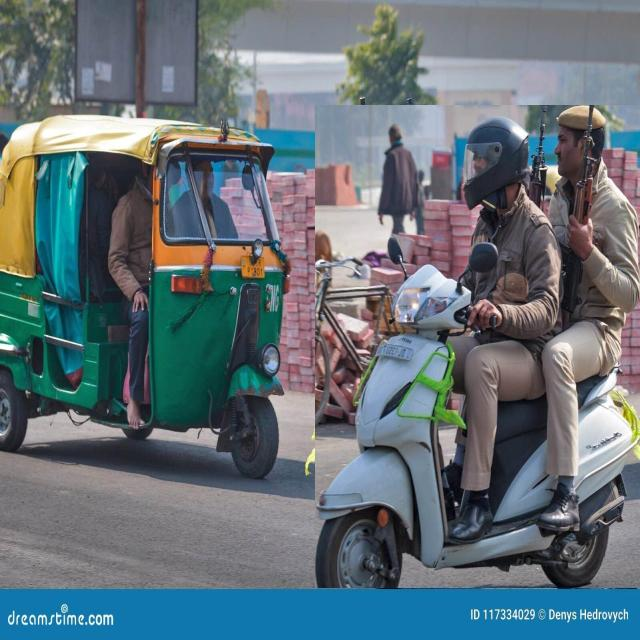autorickshaw: (0, 115, 286, 477)
motorcycle: (315, 106, 640, 588)
